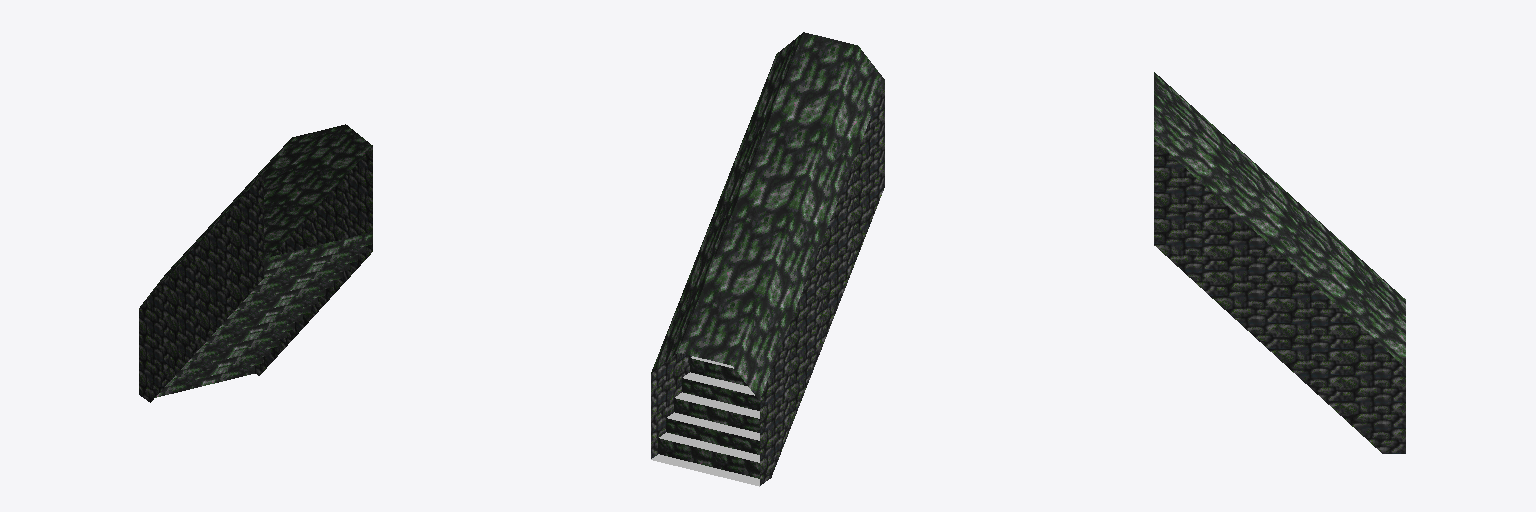
3 views of the same model, side by side, from view 1: azimuth 30°, elevation 25°; view 2: azimuth 150°, elevation 25°; view 3: azimuth 270°, elevation 25° (orthographic).
Visible parts, largest first — view 1: model61218-node_model61218; view 2: model61218-node_model61218; view 3: model61218-node_model61218.
Boxes of the visible parts, <box> form: model61218-node_model61218: <box>139,124,372,402</box>; model61218-node_model61218: <box>651,32,884,486</box>; model61218-node_model61218: <box>1154,72,1405,453</box>.
Bounding box in the file's own units: 3.2 × 9.6 × 6.4.
3 materials, 2 textured.